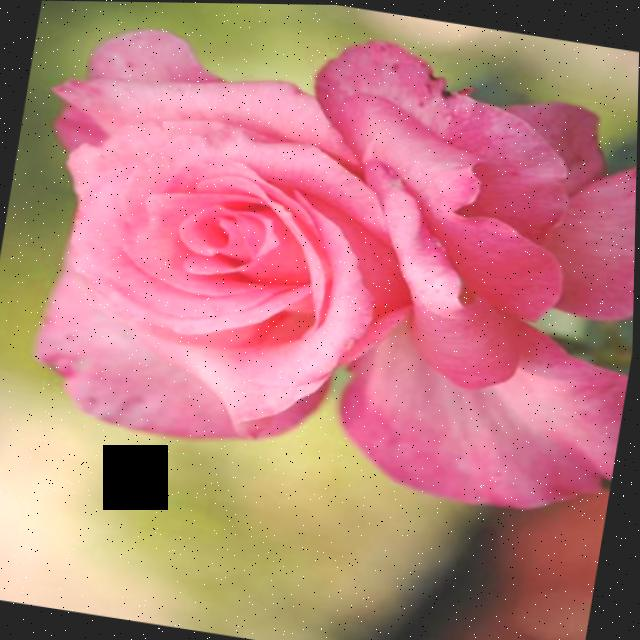rose: (2, 2, 640, 506)
